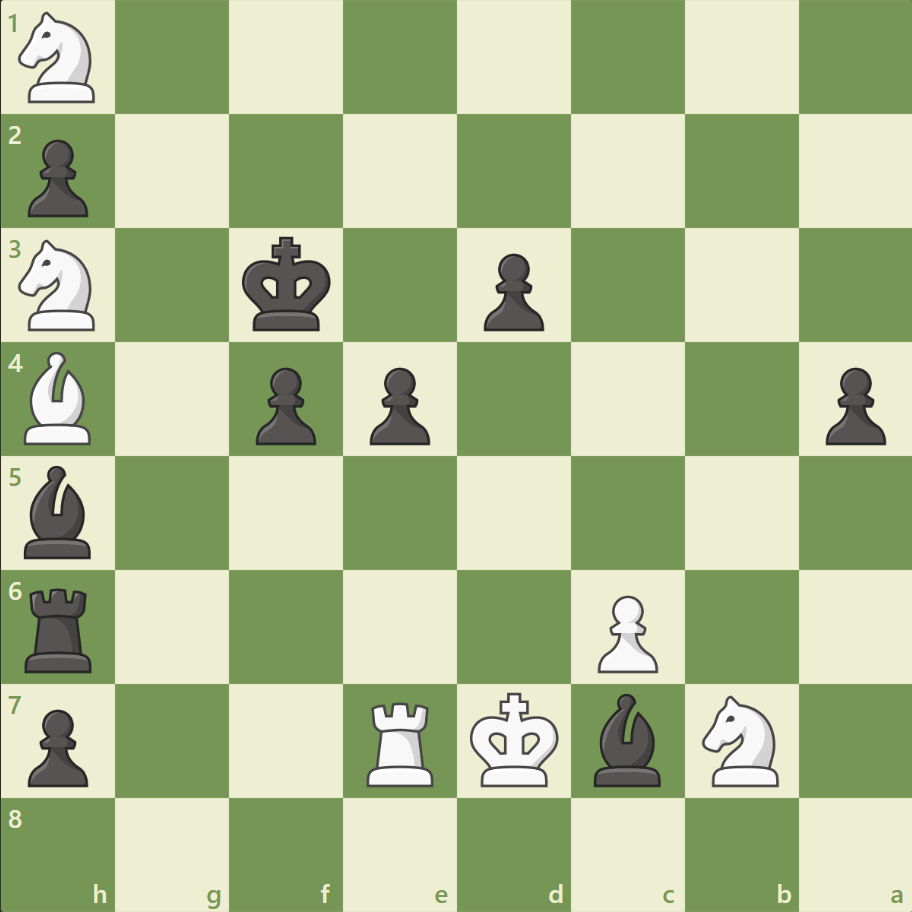B: (17, 347, 101, 449)
K: (465, 685, 565, 793)
N: (692, 688, 789, 791), (11, 234, 108, 337), (11, 7, 108, 110)
P: (588, 586, 662, 677)
R: (360, 693, 442, 790)
b: (585, 687, 669, 790), (17, 460, 101, 563)
k: (238, 231, 338, 339)
p: (20, 700, 95, 791), (247, 359, 322, 450), (474, 246, 549, 337), (20, 132, 95, 223), (815, 359, 889, 450), (361, 359, 435, 450)
r: (19, 579, 102, 676)
